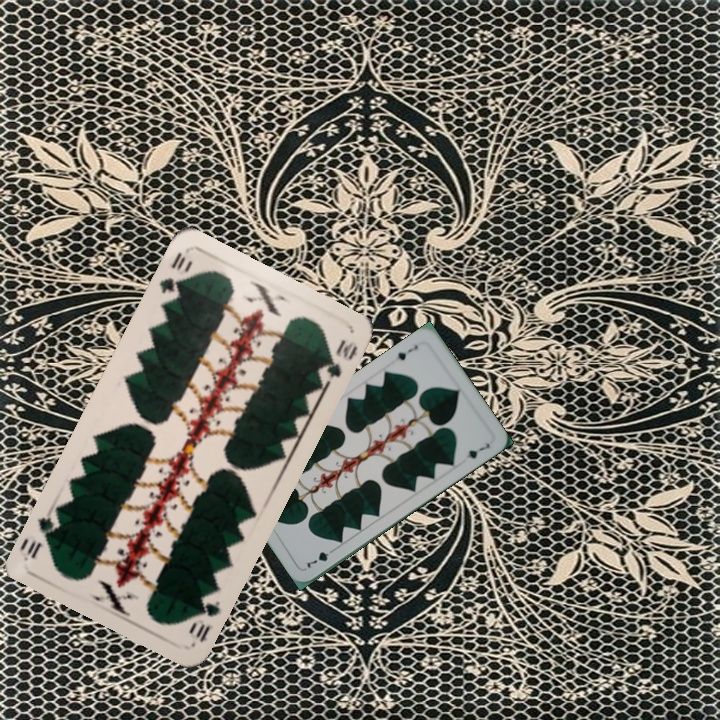G10: (184, 597, 223, 645), (155, 248, 188, 296)
G7: (303, 544, 337, 571), (389, 340, 420, 364)
